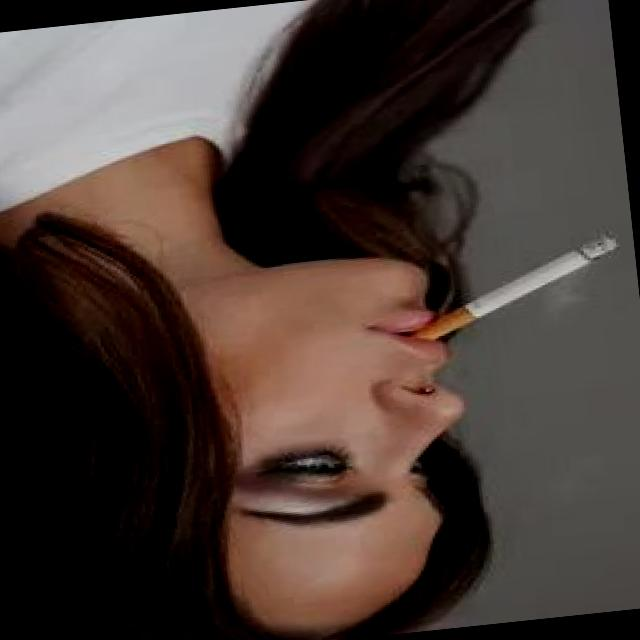cigarette: (402, 232, 630, 346)
